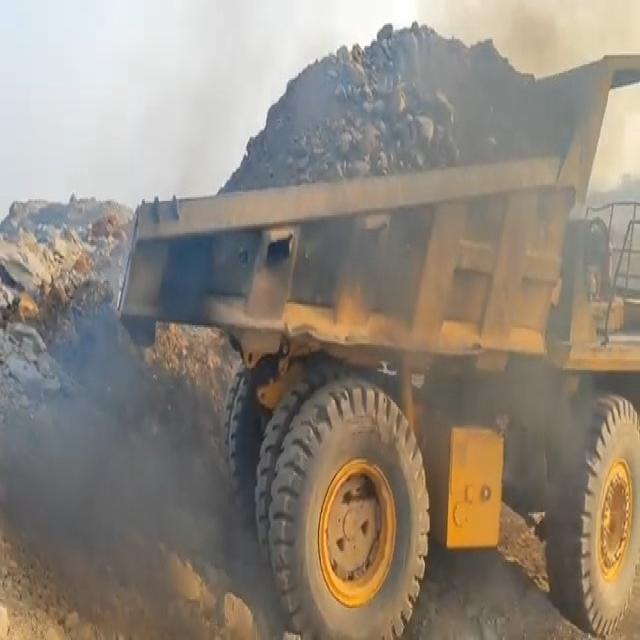dump_truck: (127, 16, 640, 640)
